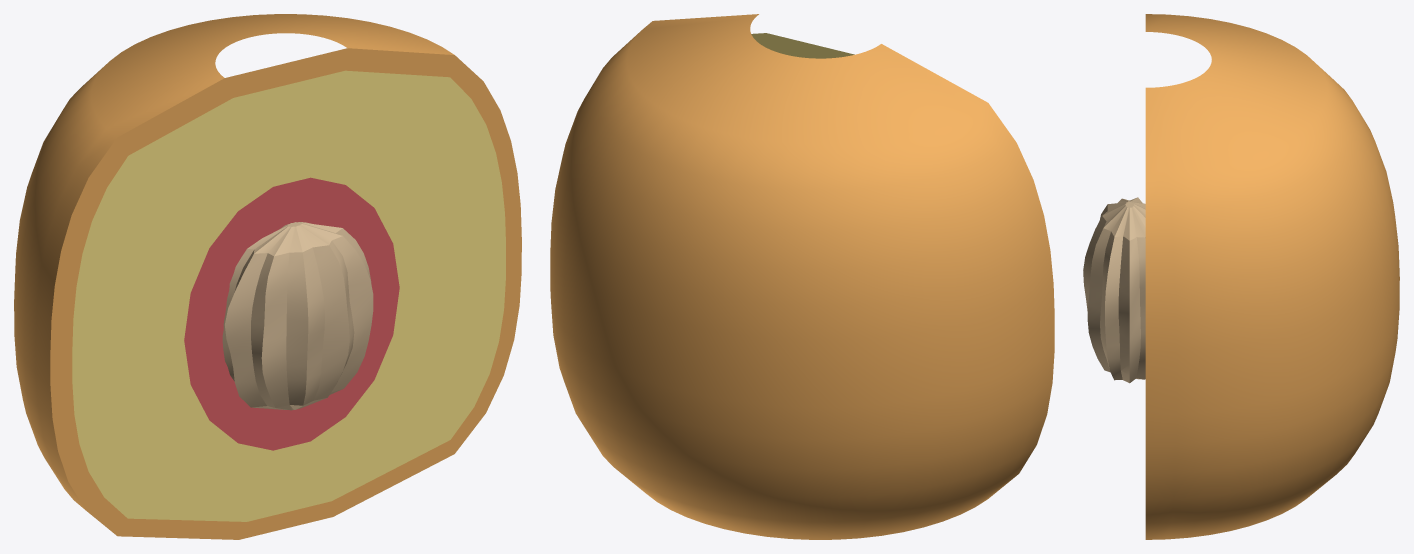
The model's file is fresh-produce-and-groceries-peach-half-cb24b2ad__24318.glb.
3 views of the same model, side by side, from view 1: azimuth 30°, elevation 25°; view 2: azimuth 150°, elevation 25°; view 3: azimuth 270°, elevation 25° (orthographic). The views are drawn at different scales.
Visible parts, largest first — view 1: peach-half; view 2: peach-half; view 3: peach-half.
Boxes of the visible parts, box(x1,y1,x2,y2) form: peach-half: box(14, 14, 521, 539); peach-half: box(550, 14, 1054, 539); peach-half: box(1083, 14, 1399, 539).
Size of the model in its own units: 0.07 by 0.066 by 0.0436.
